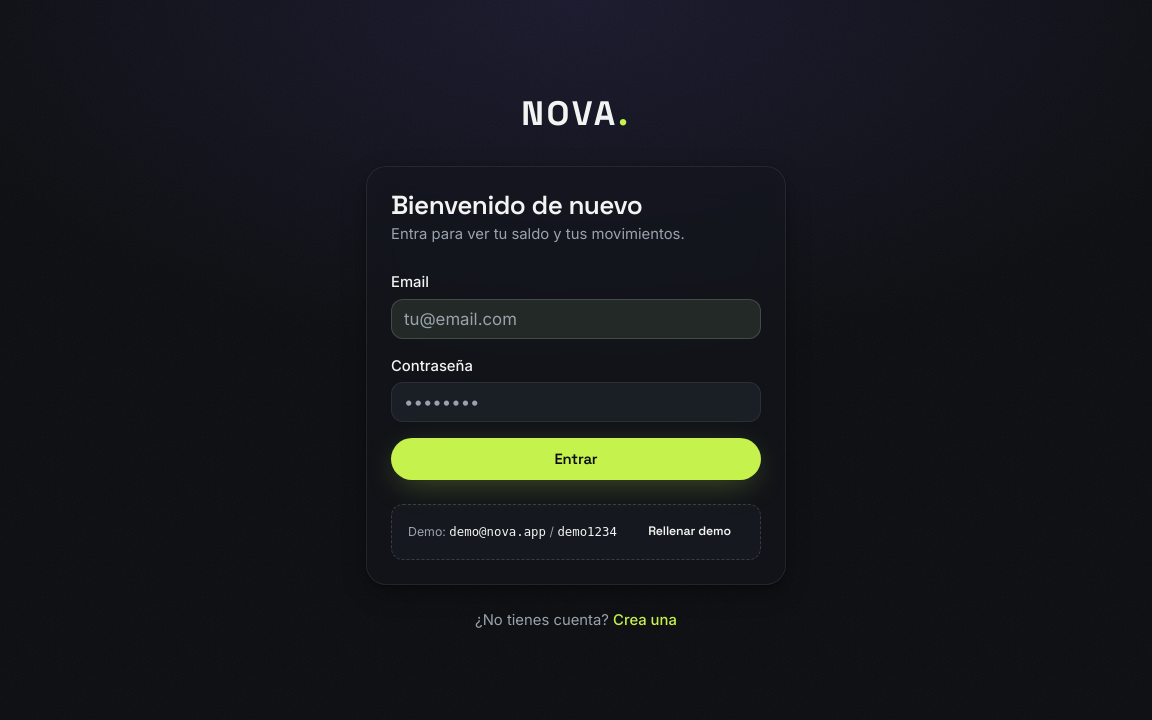
LoginPage › muestra errores de validación al enviar el formulario vacío
The width and height of the screenshot is (1152, 720).
Click the button "Entrar".
click(576, 459)  # box [391,438,761,480]
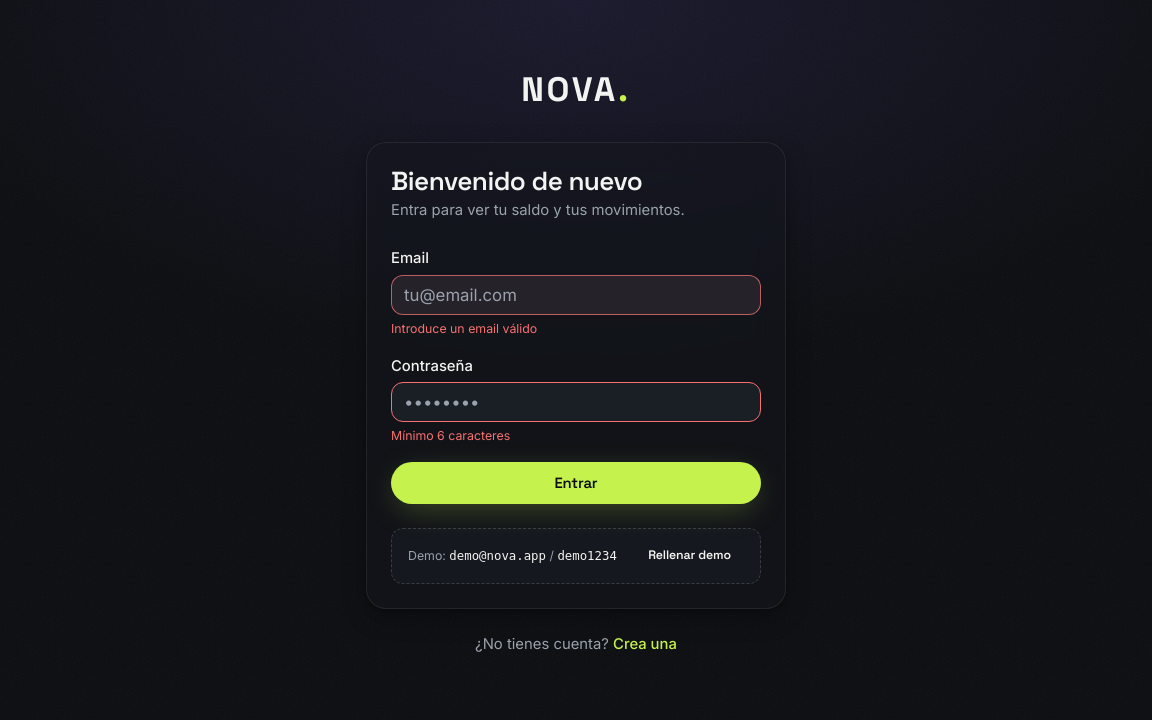
Expected: the text "Introduce un email válido" is shown, [391,321,537,336]
Expected: the text "Mínimo 6 caracteres" is shown, [391,428,510,444]
